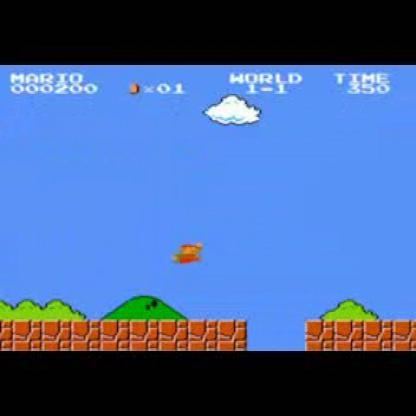Hoyo: (242, 318, 307, 350)
